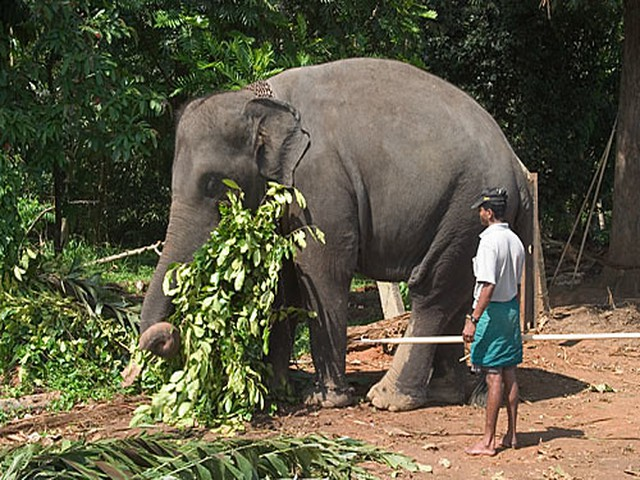Elephant: (134, 54, 477, 410)
Person: (461, 188, 531, 456)
